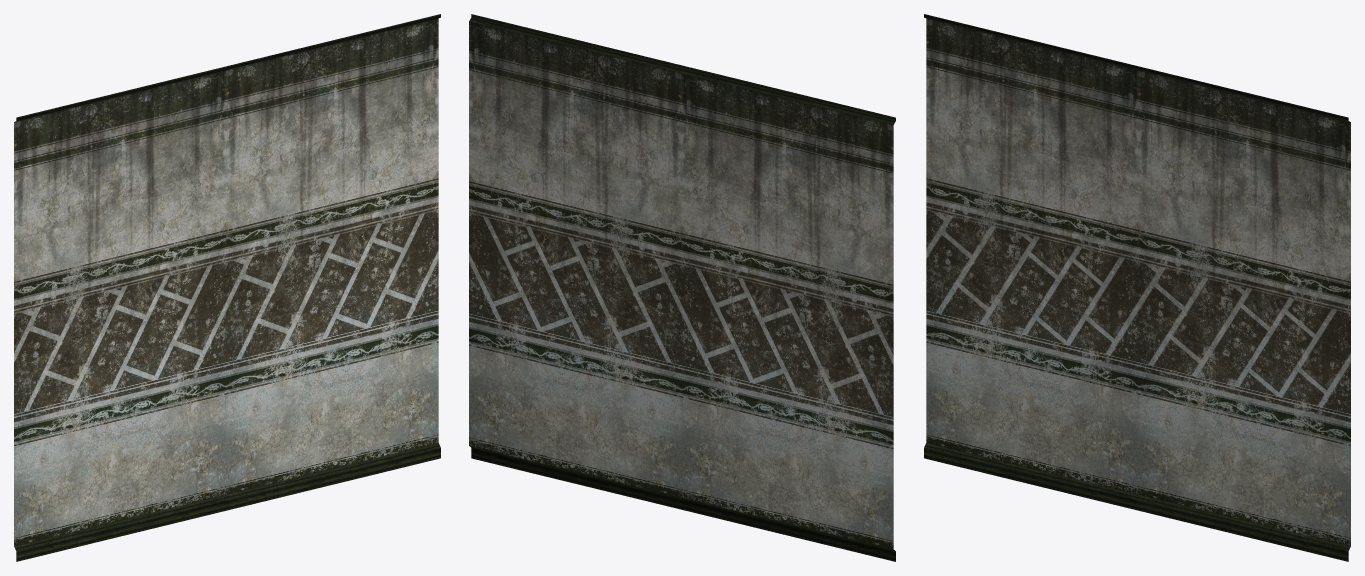
File: waitingroom_damaged_flat.dae
The picture shows the model from 3 angles, left to right: view 1: azimuth 30°, elevation 25°; view 2: azimuth 150°, elevation 25°; view 3: azimuth 330°, elevation 25°; orthographic projection.
Visible parts, largest first — view 1: polySurface7; view 2: polySurface7; view 3: polySurface7.
Boxes of the visible parts, box(x1,y1,x2,y2) form: polySurface7: box(14, 14, 440, 561); polySurface7: box(469, 14, 895, 561); polySurface7: box(924, 14, 1350, 561).
Size of the model in its own units: 4 by 4 by 0.0341.
